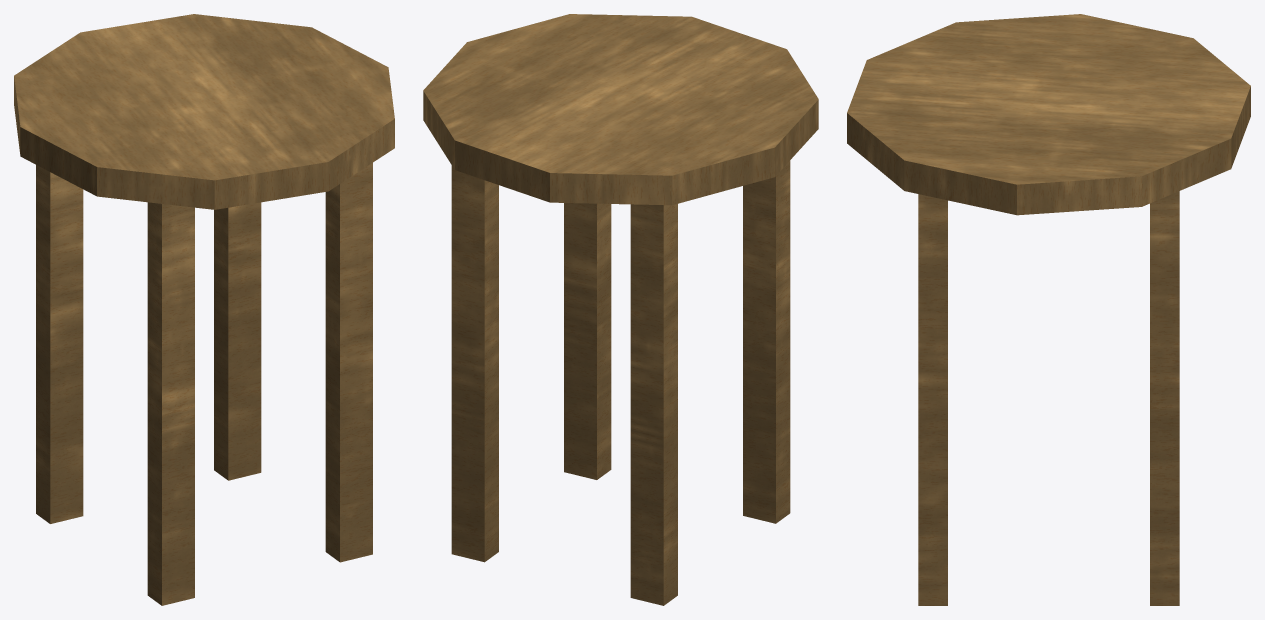
The model's file is tabourret.fbx.
The picture shows the model from 3 angles, left to right: view 1: azimuth 30°, elevation 25°; view 2: azimuth 150°, elevation 25°; view 3: azimuth 270°, elevation 25°; orthographic projection. The views are drawn at different scales.
Visible parts, largest first — view 1: tabouret; view 2: tabouret; view 3: tabouret.
Boxes of the visible parts, x1=… form: tabouret: x1=14, y1=14, x2=394, y2=605; tabouret: x1=423, y1=14, x2=818, y2=605; tabouret: x1=847, y1=14, x2=1250, y2=605.
Bounding box in the file's own units: 50.02 × 61.92 × 50.02.
